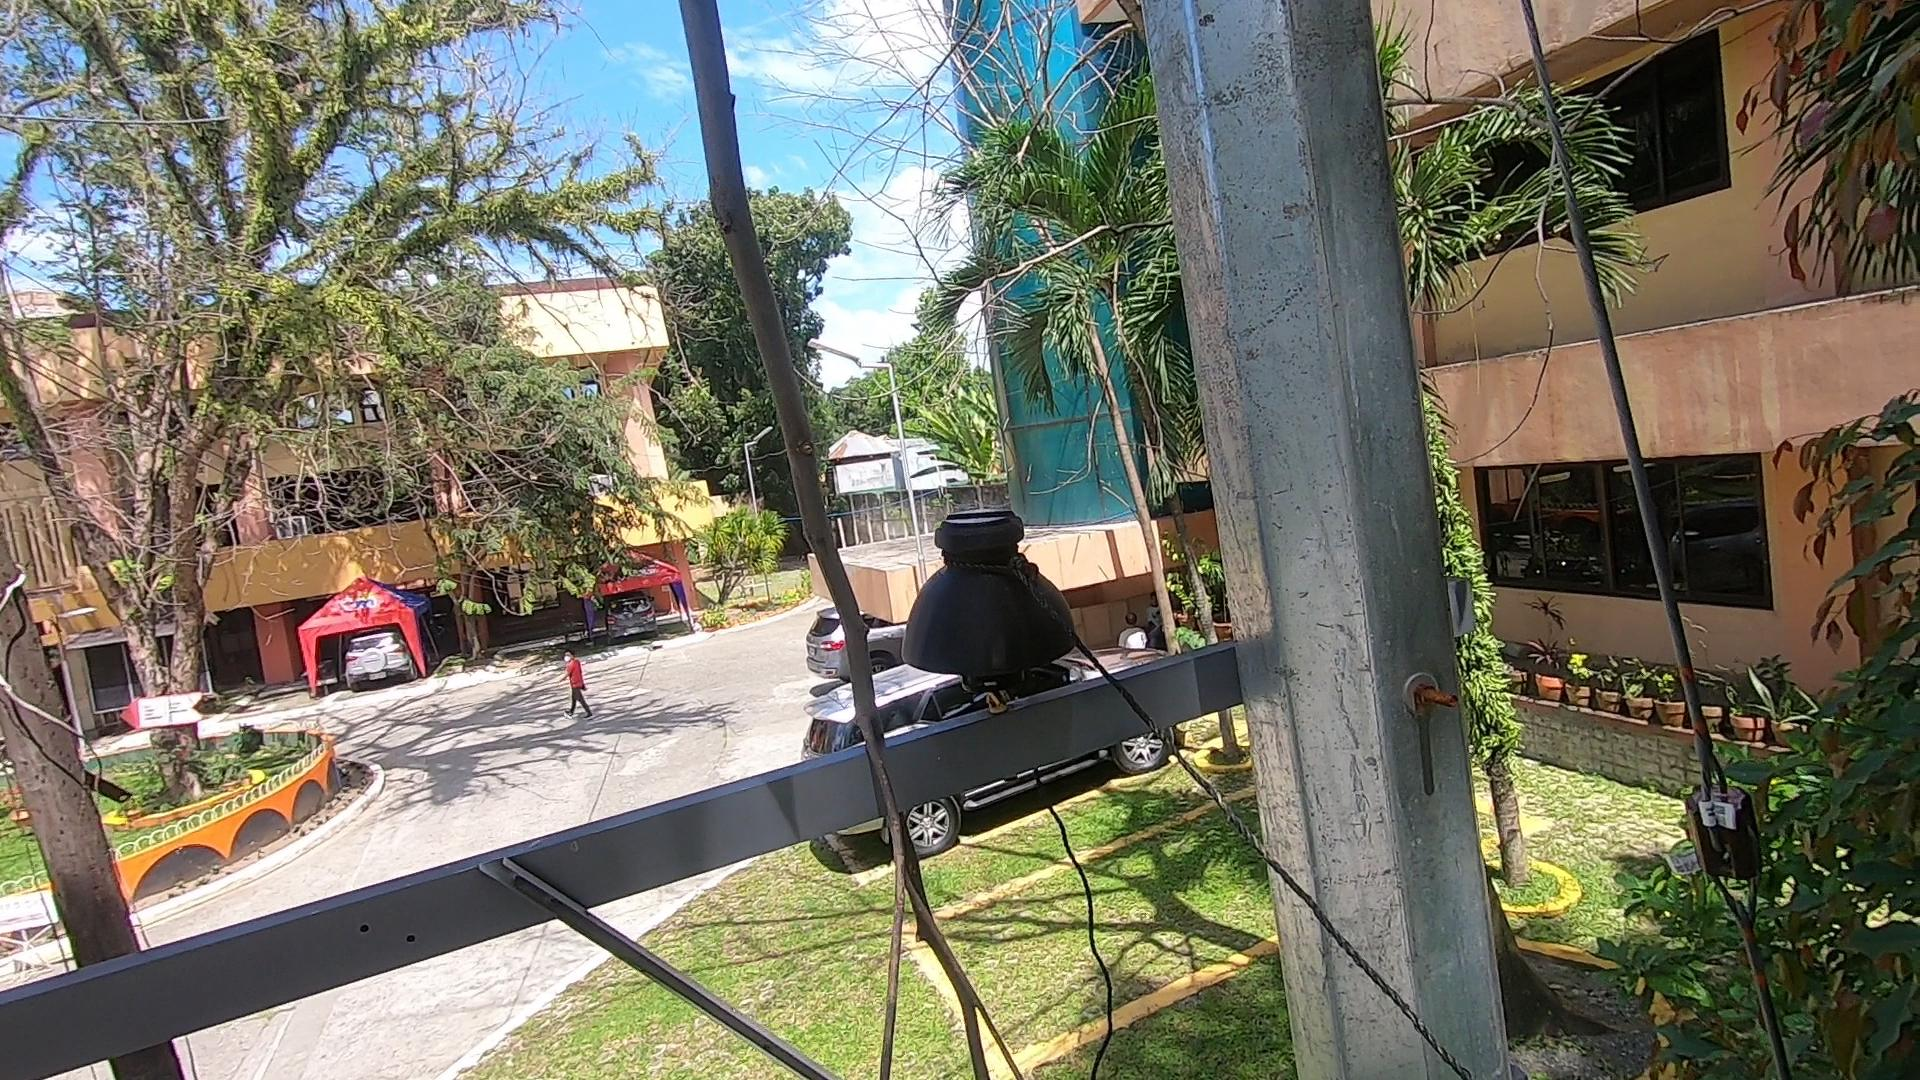tree branch: (624, 3, 1036, 1080)
